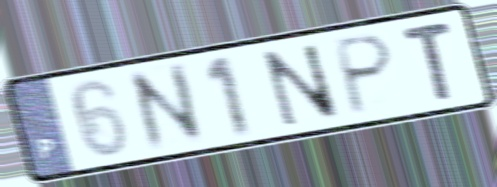1: (202, 52, 256, 140)
6: (67, 76, 132, 161)
N: (122, 58, 210, 156), (258, 42, 345, 130)
P: (333, 31, 397, 119)
T: (398, 18, 456, 104)
